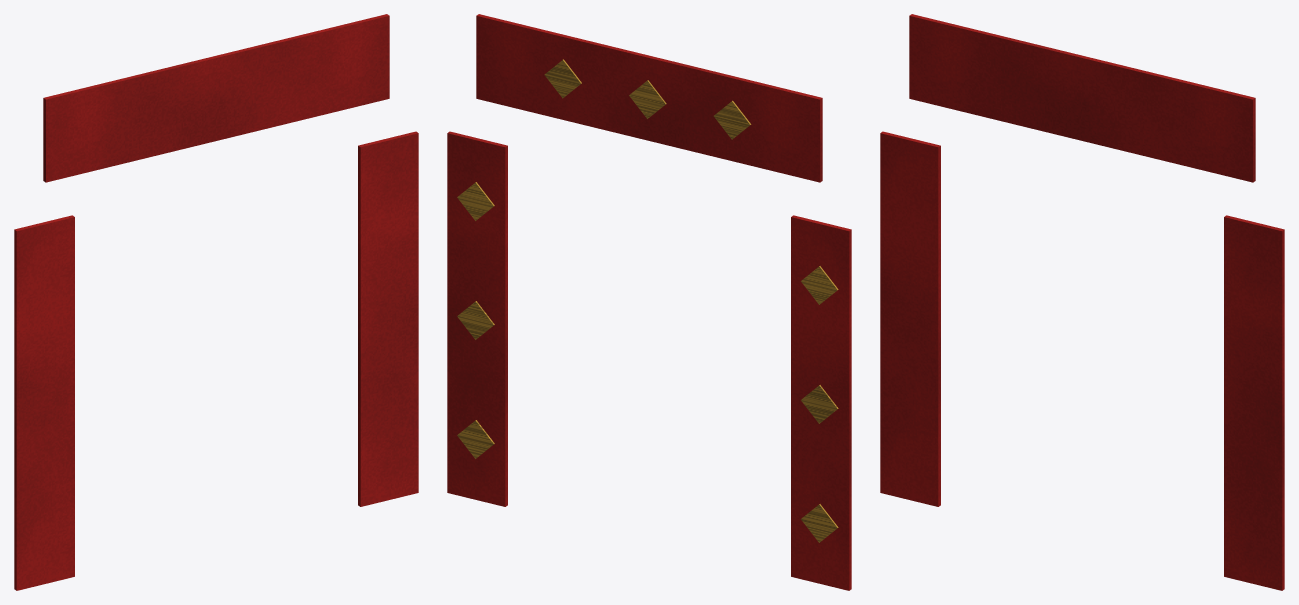
File: spring_couplet.fbx
3 renders of one model, left to right at view 1: azimuth 30°, elevation 25°; view 2: azimuth 150°, elevation 25°; view 3: azimuth 330°, elevation 25°, orthographic.
Parts seen in each view (by area): view 1: spring_couplet; view 2: spring_couplet; view 3: spring_couplet.
Boxes of the visible parts, x1,y1,x2,y2 form: spring_couplet: (14, 14, 418, 590); spring_couplet: (447, 14, 851, 590); spring_couplet: (880, 14, 1284, 590).
Size of the model in its own units: 152 by 175 by 2.2.
